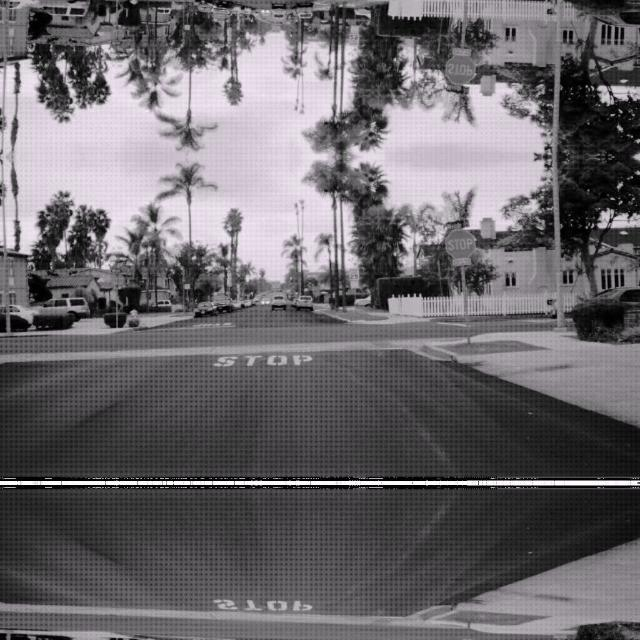stop: (444, 227, 476, 257), (444, 55, 476, 85)
